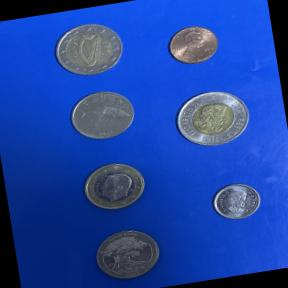1 Euro-B: (76, 154, 152, 218)
2 Euro-B: (47, 16, 130, 83)
Canada-10cent-B: (204, 176, 267, 227)
Canada-2Dollar-B: (167, 81, 258, 156)
Croatia-2Kune-B: (62, 84, 142, 148)
US-1cent-B: (164, 20, 225, 71)
US-25cent-B: (86, 222, 168, 288)
